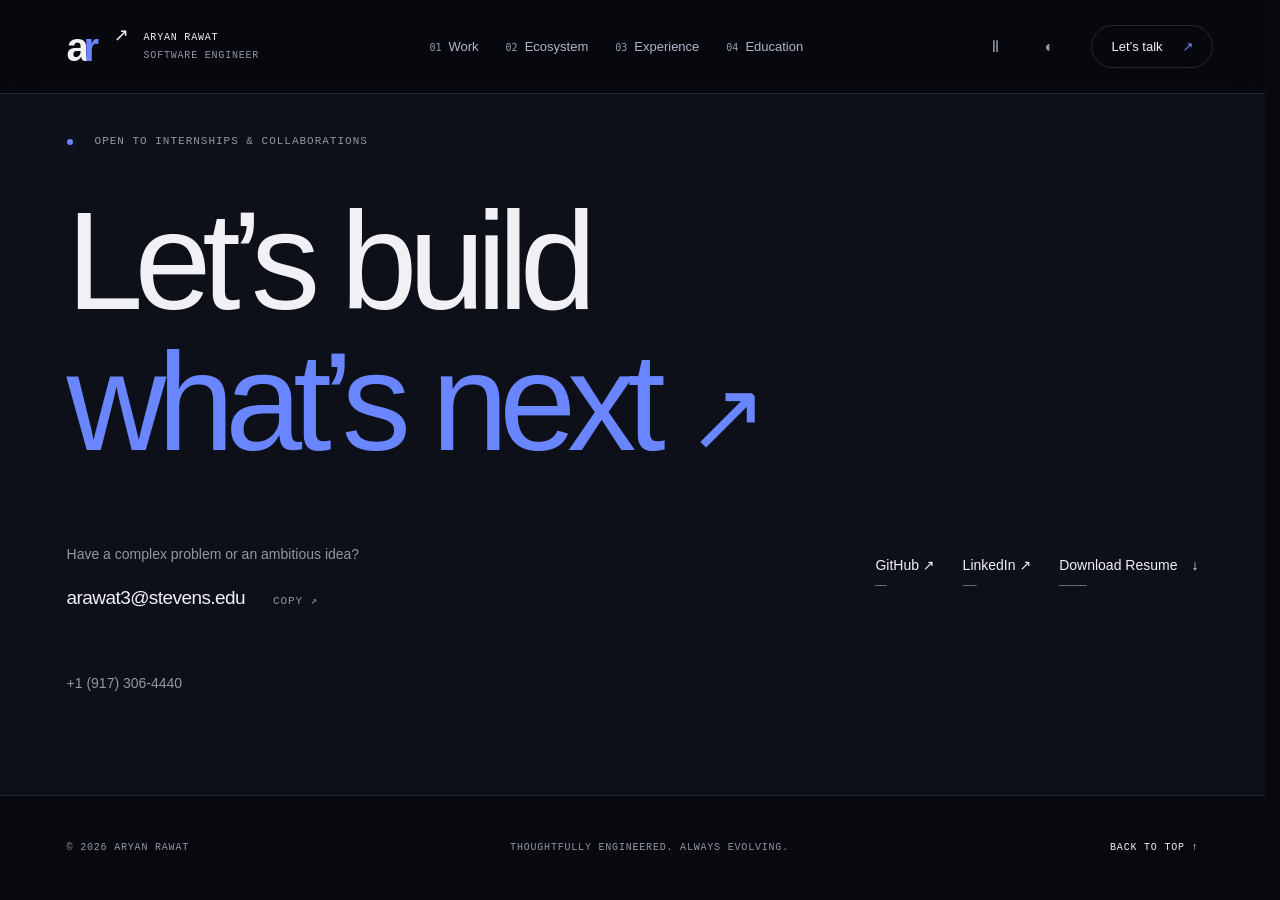
Test: copies contact email and reports clipboard failure accessibly
(page scrolled)
Click the button with aria-label "Copy email": click(296, 601) [263,579,328,623]
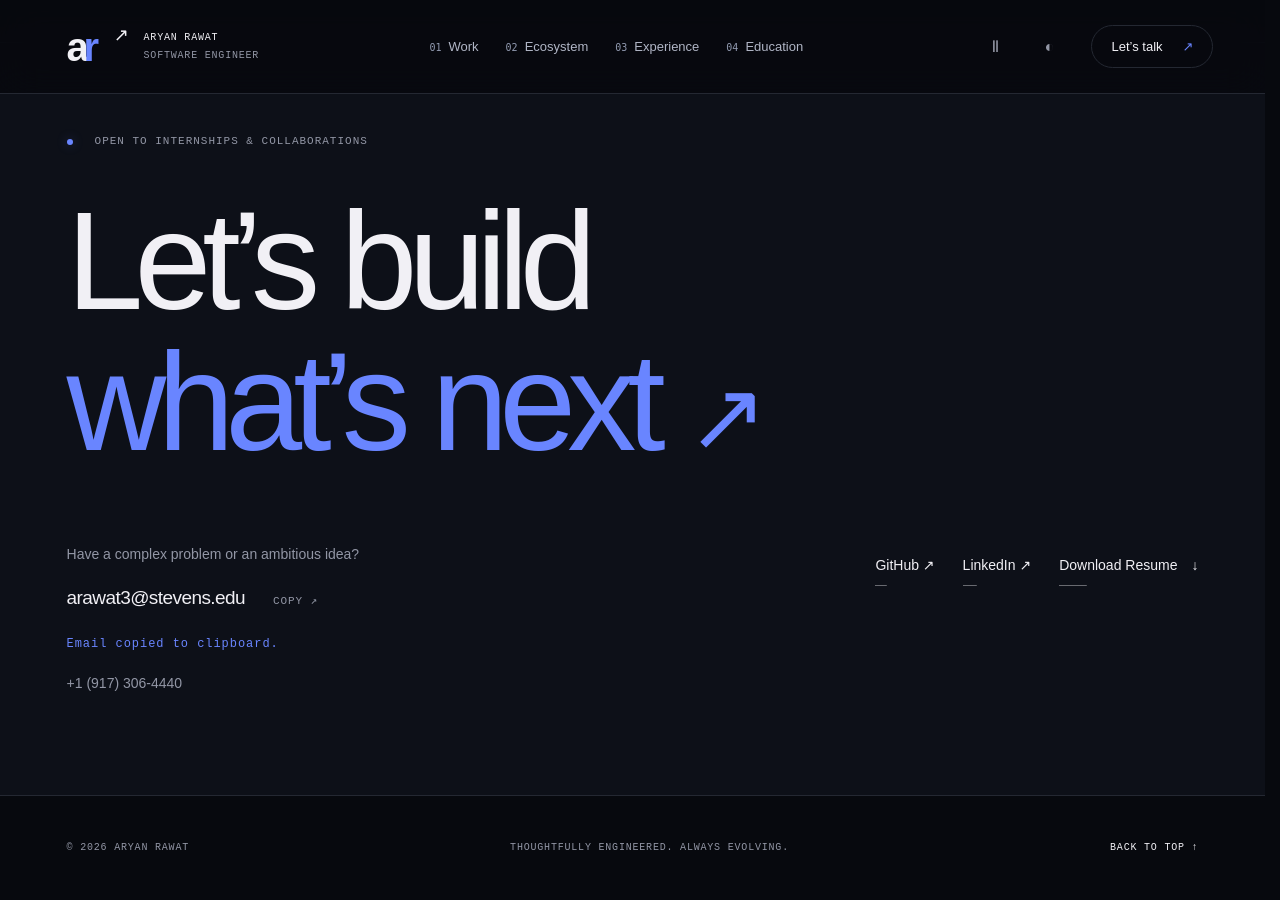
Expected: the message reads "Email copied to clipboard.", [66,637,279,651]
Click the button with aria-label "Copy email": click(296, 601) [263,579,328,623]
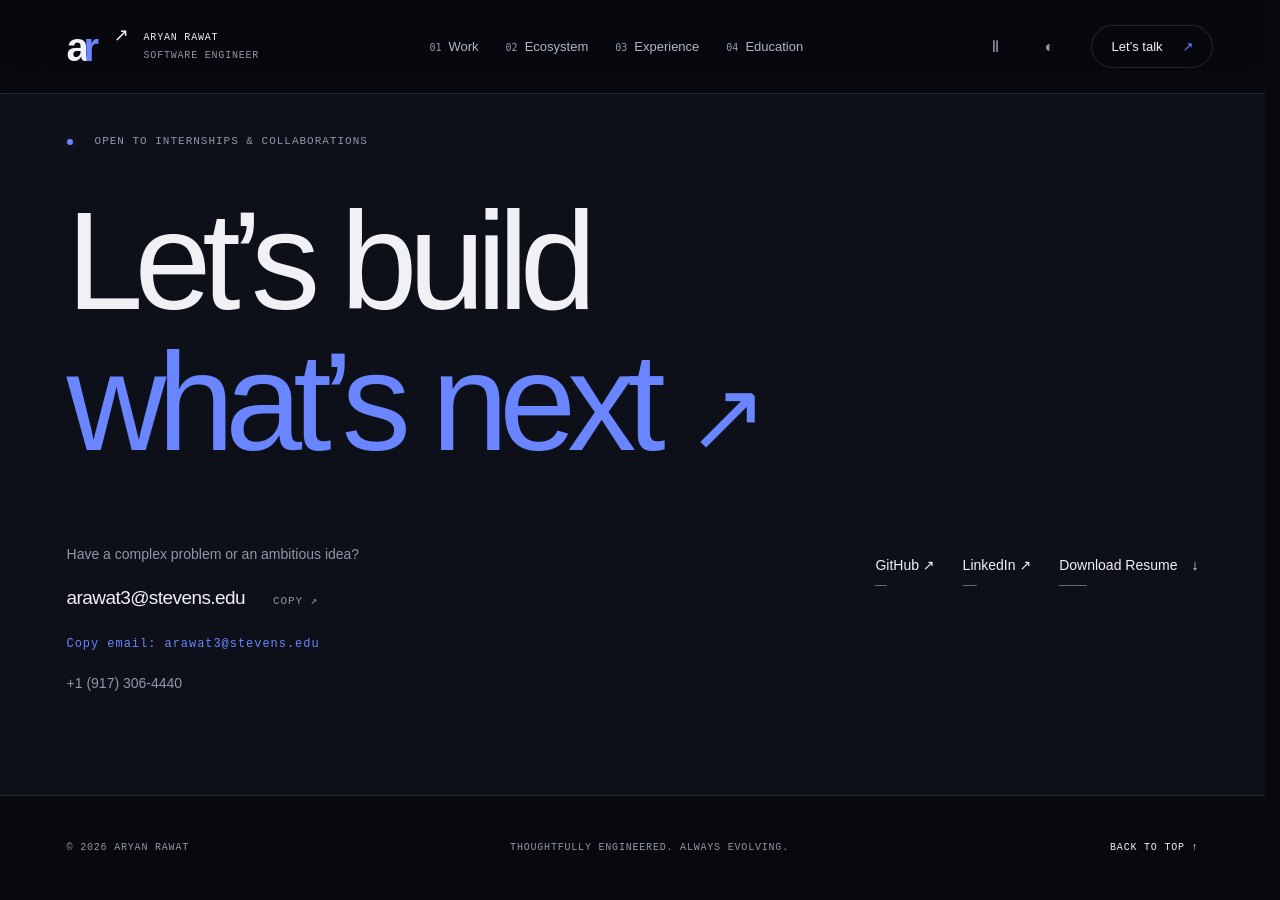
Expected: the message reads "Copy email: arawat3@stevens.edu", [66,637,320,651]
